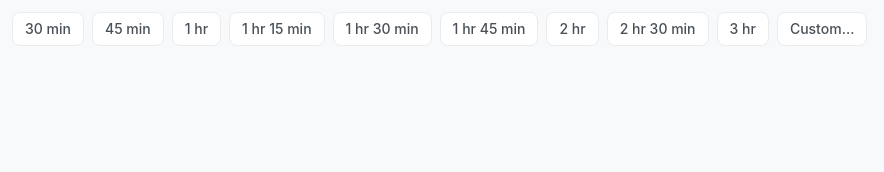
DurationPicker › clicking Custom… shows the custom input
Click the button "Custom…": (822, 29) [777,12,867,46]
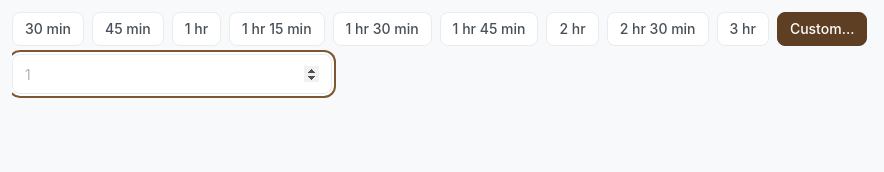
Result: the number field named "Custom duration (minutes)" is shown at [12,54,332,94]
